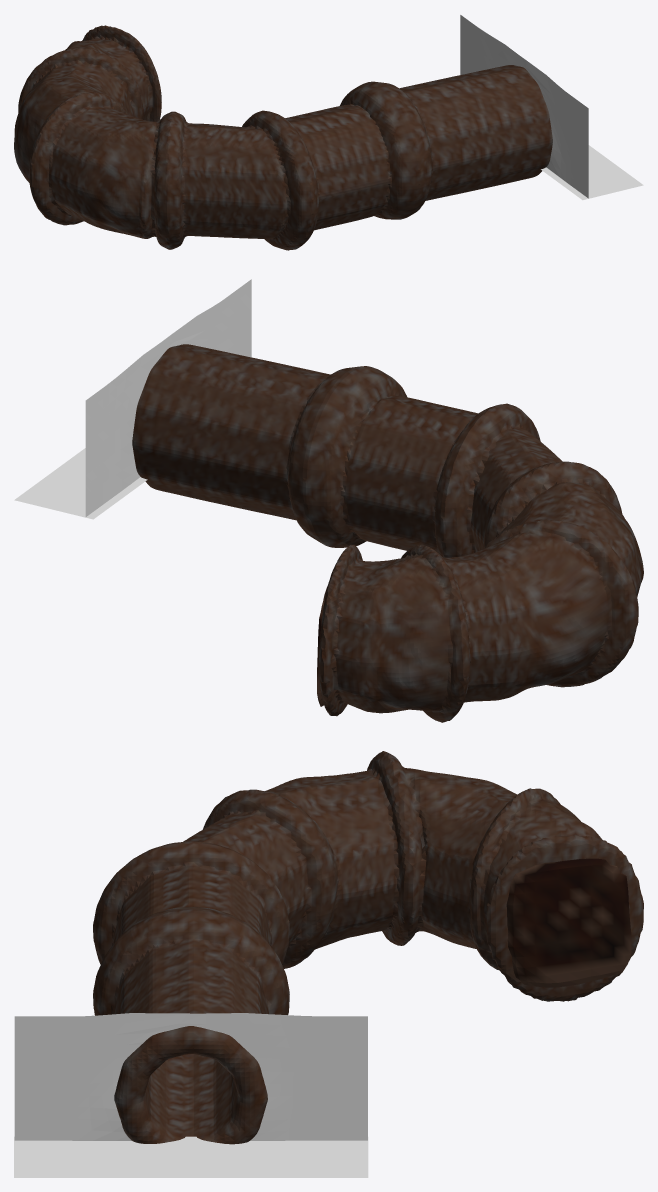
File: Salle eau(2).fbx
The picture shows the model from 3 angles, top to bottom: view 1: azimuth 30°, elevation 25°; view 2: azimuth 150°, elevation 25°; view 3: azimuth 270°, elevation 25°; orthographic projection. The views are drawn at different scales.
Parts seen in each view (by area): view 1: Cylindre, Plan 1, Plan 2, Plan; view 2: Cylindre, Plan 2, Plan 1, Plan; view 3: Cylindre, Plan 1, Plan 2, Boîte, Plan.
Part boxes in pixels (x1,y1,x2,y2): Cylindre: (14,25,552,250); Plan 1: (523,58,588,198); Plan 2: (460,15,526,74); Plan: (541,145,643,200); Cylindre: (132,344,643,722); Plan 2: (85,336,170,516); Plan 1: (164,279,251,357); Plan: (14,448,147,519); Cylindre: (93,751,643,1144); Plan 1: (14,1013,206,1140); Plan 2: (200,1013,367,1140); Boîte: (506,858,631,987); Plan: (14,1136,368,1177).
Bounding box in the file's own units: 18.79 × 4.91 × 15.39.
